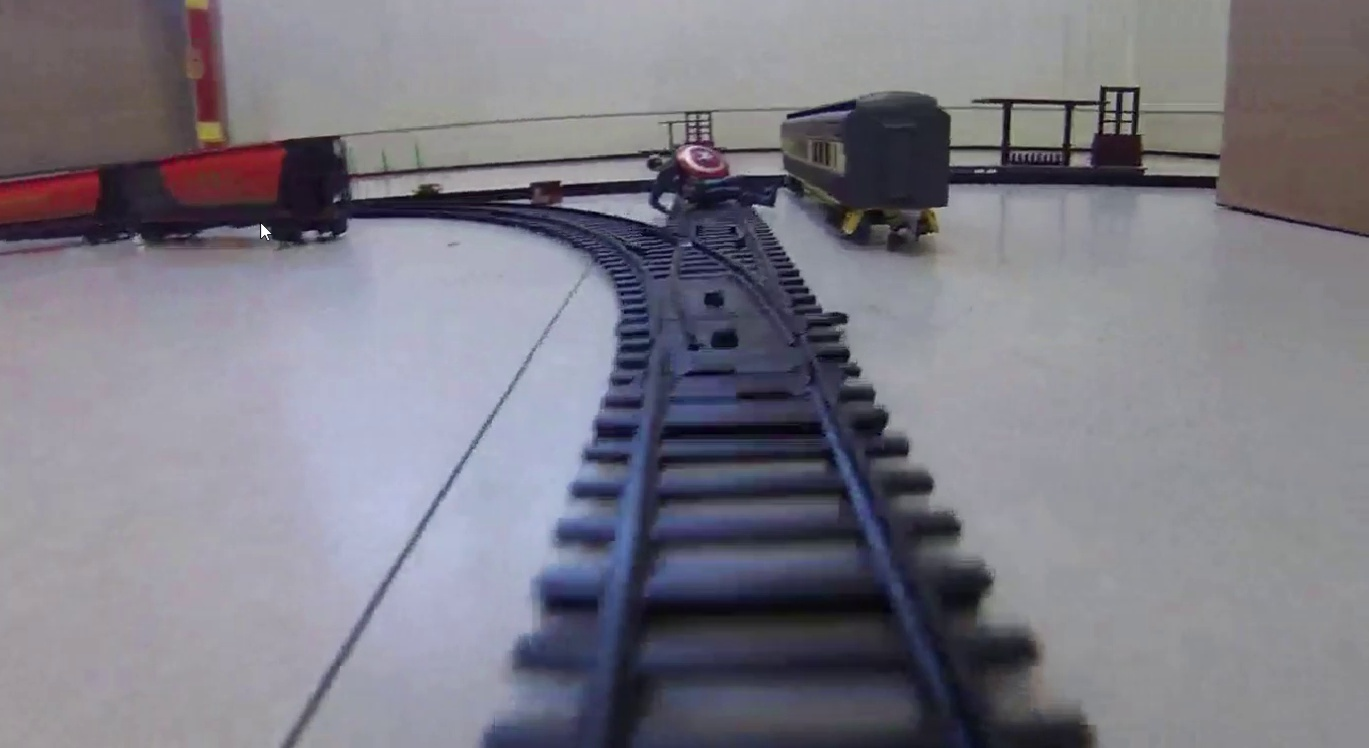people: (646, 146, 784, 210)
